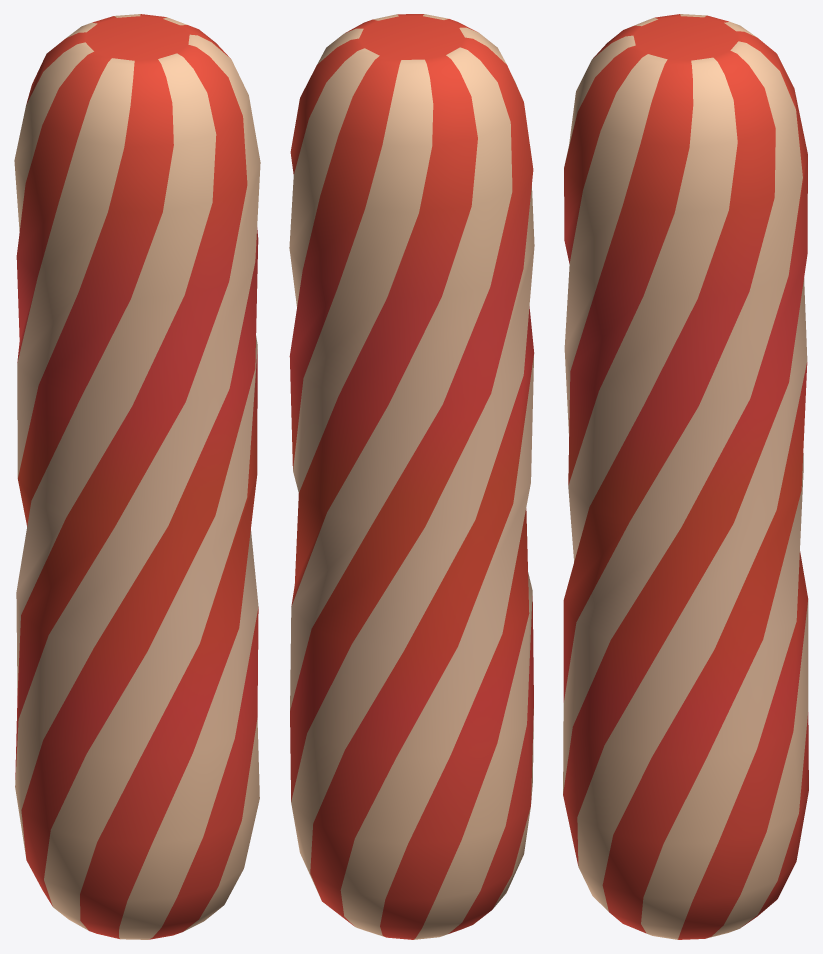
Rendered from candy_hard_26.fbx.
The picture shows the model from 3 angles, left to right: view 1: azimuth 30°, elevation 25°; view 2: azimuth 150°, elevation 25°; view 3: azimuth 270°, elevation 25°; orthographic projection.
Parts seen in each view (by area): view 1: c_h_26; view 2: c_h_26; view 3: c_h_26.
Part boxes in pixels (bbox=[...]): c_h_26: bbox=[14, 14, 260, 939]; c_h_26: bbox=[289, 14, 534, 939]; c_h_26: bbox=[563, 14, 808, 939].
Bounding box in the file's own units: 75.72 × 299 × 75.97.
